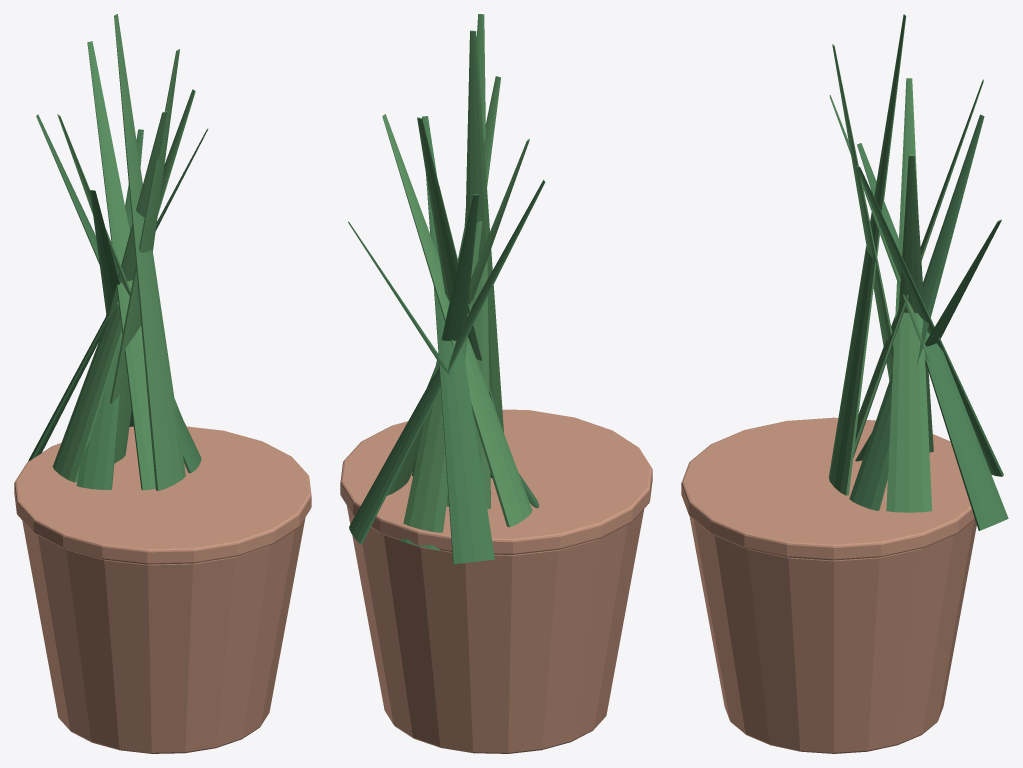
File: plant_floor.glb
3 renders of one model, left to right at view 1: azimuth 30°, elevation 25°; view 2: azimuth 150°, elevation 25°; view 3: azimuth 270°, elevation 25°, orthographic. The views are drawn at different scales.
Visible parts, largest first — view 1: Plant_Floor; view 2: Plant_Floor; view 3: Plant_Floor.
Part boxes in pixels (box(x1,y1,x2,y2)): Plant_Floor: box(14, 14, 311, 753); Plant_Floor: box(340, 14, 652, 753); Plant_Floor: box(681, 14, 1008, 753).
Bounding box in the file's own units: 0.4704 × 1.17 × 0.5041.
